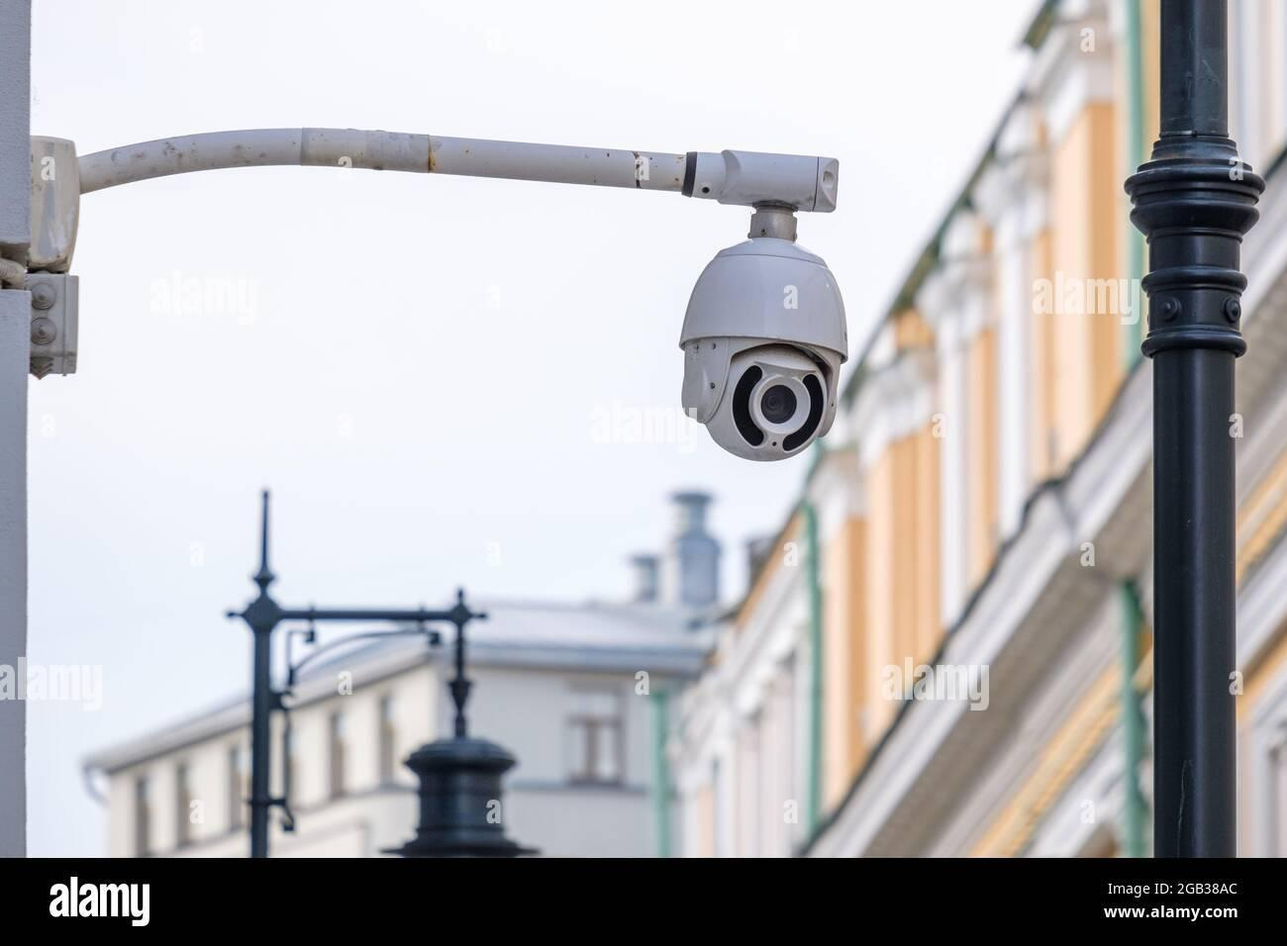camera: (644, 127, 881, 500)
